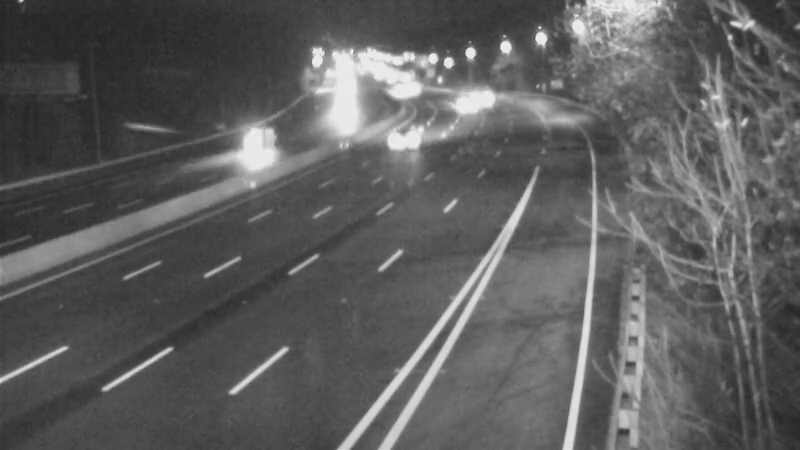vehicle: (213, 113, 293, 193), (375, 66, 425, 116), (458, 69, 508, 119), (439, 74, 489, 124), (383, 113, 433, 163), (319, 93, 369, 143)
